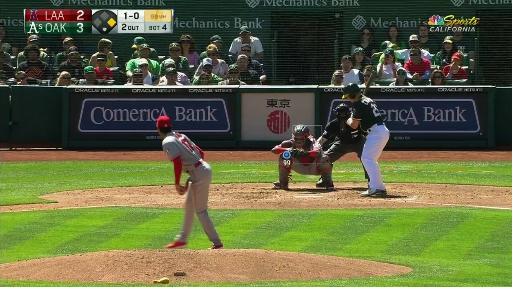pitcher: (155, 115, 225, 249)
